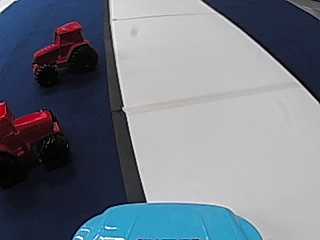tractor: (0, 98, 71, 181), (29, 21, 97, 84)
